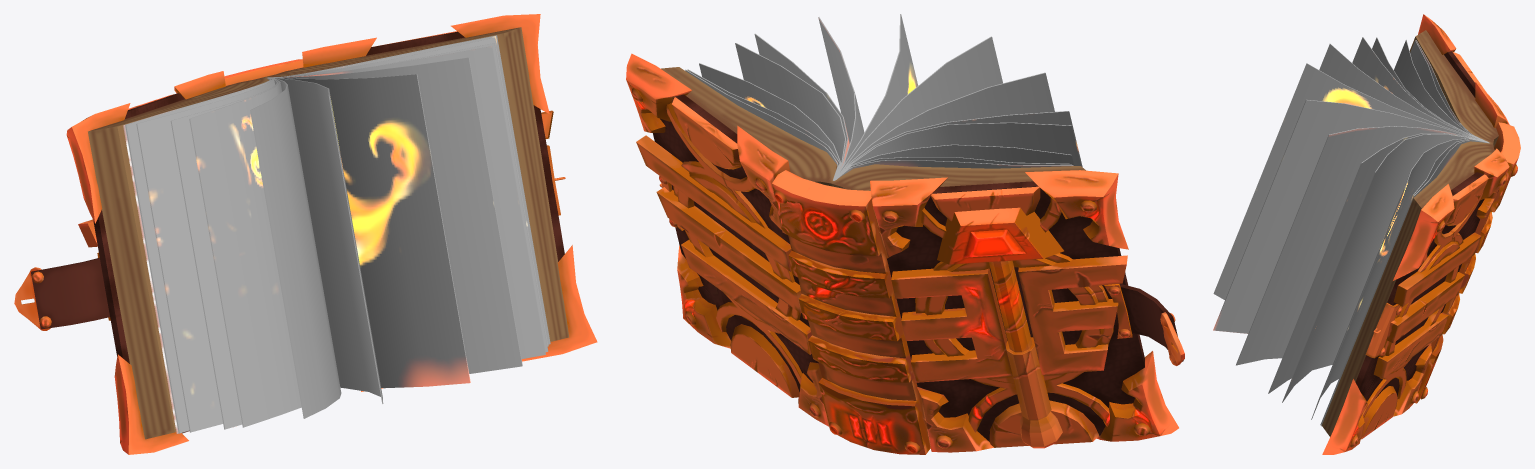
The picture shows the model from 3 angles, left to right: view 1: azimuth 30°, elevation 25°; view 2: azimuth 150°, elevation 25°; view 3: azimuth 270°, elevation 25°; orthographic projection. The views are drawn at different scales.
Parts seen in each view (by area): view 1: Remapped Book.001_2; view 2: Remapped Book.001_2; view 3: Remapped Book.001_2.
Boxes of the visible parts, x1=… form: Remapped Book.001_2: x1=14, y1=14, x2=597, y2=454; Remapped Book.001_2: x1=626, y1=14, x2=1184, y2=454; Remapped Book.001_2: x1=1213, y1=14, x2=1520, y2=454.
Size of the model in its own units: 456 by 292 by 267.
3 materials, 3 textured.
